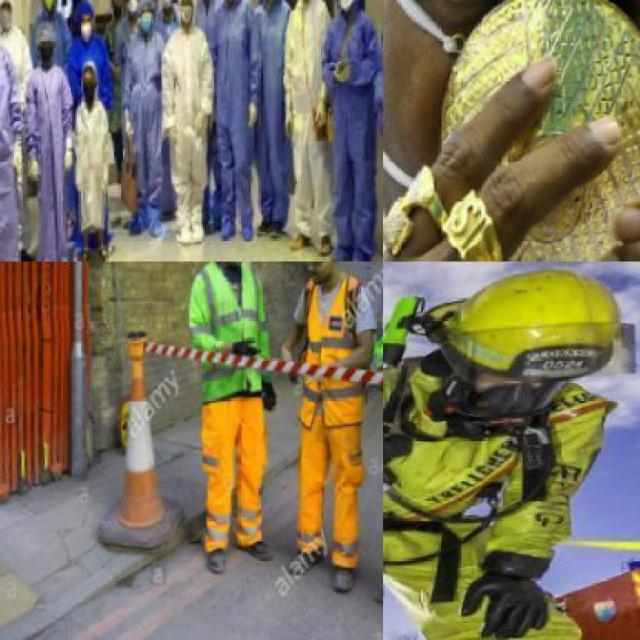vest: (383, 337, 635, 638), (280, 0, 349, 248), (320, 11, 382, 254), (204, 0, 270, 226), (182, 262, 280, 406), (158, 28, 224, 229), (249, 3, 305, 228), (23, 65, 86, 260), (120, 32, 177, 218), (296, 271, 370, 397), (0, 52, 35, 259), (75, 101, 123, 222), (0, 30, 37, 116), (69, 48, 117, 103)
